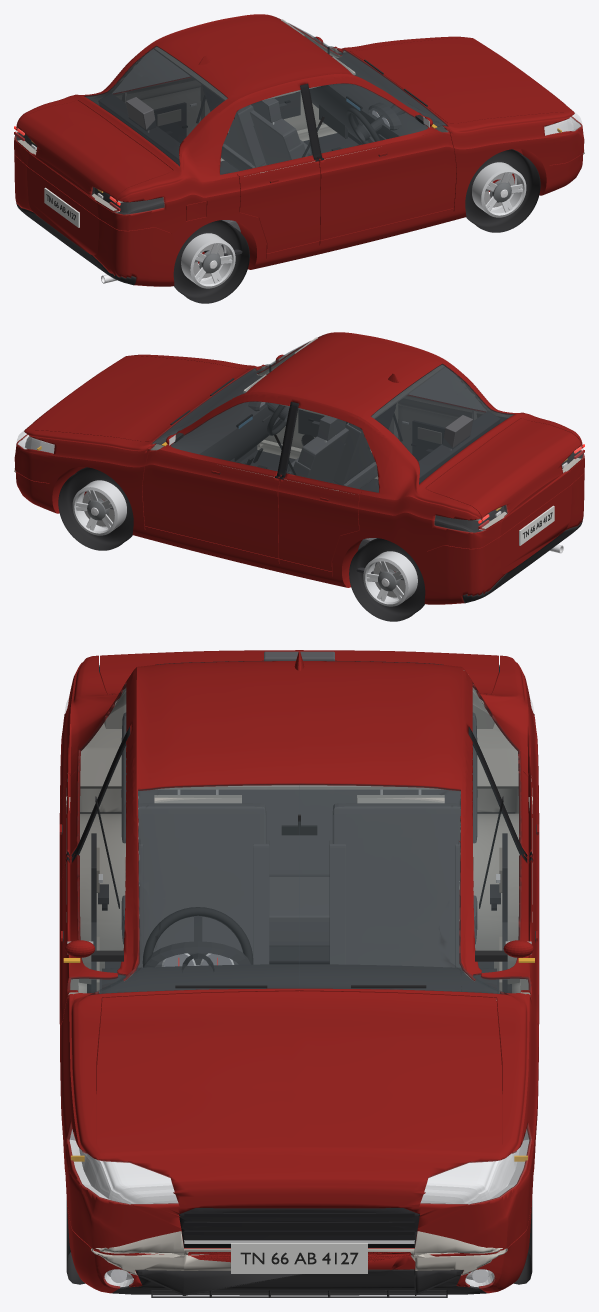
Rendered from car_sedan.glb.
3 renders of one model, top to bottom at view 1: azimuth 30°, elevation 25°; view 2: azimuth 150°, elevation 25°; view 3: azimuth 270°, elevation 25°, orthographic. The views are drawn at different scales.
Visible parts, largest first — view 1: Body, Glass_Glass, Glass_GlassTint, Dash, WRR_Tyre, WFR_Tyre, SeatDriverBack, WFR_Barrel, WRR_Barrel, SeatRearBack, SeatPassengerBack, Trim_BlackTrim (+17 smaller); view 2: Body, Glass_Glass, Glass_GlassTint, Dash, WRL_Tyre, WFL_Tyre, SeatPassengerBack, WFL_Barrel, WRL_Barrel, SeatRearBack, SeatDriverBack, Trim_BlackTrim (+15 smaller); view 3: Body, Glass_Glass, SeatPassengerBack, SeatDriverBack, Dash, SeatRearBack, Trim_BlackTrim, Trim_BlackGloss, SeatRearCushion, PlateFront, HeadLens_L, HeadLens_R (+13 smaller).
Part boxes in pixels (x1=…): Body: x1=14, y1=14, x2=584, y2=286; Glass_Glass: x1=220, y1=17, x2=449, y2=174; Glass_GlassTint: x1=84, y1=46, x2=227, y2=166; Dash: x1=309, y1=52, x2=445, y2=142; WRR_Tyre: x1=173, y1=220, x2=249, y2=303; WFR_Tyre: x1=465, y1=149, x2=540, y2=232; SeatDriverBack: x1=250, y1=110, x2=300, y2=164; WFR_Barrel: x1=472, y1=162, x2=526, y2=217; WRR_Barrel: x1=181, y1=233, x2=235, y2=288; SeatRearBack: x1=98, y1=93, x2=179, y2=165; SeatPassengerBack: x1=203, y1=86, x2=253, y2=164; Trim_BlackTrim: x1=16, y1=201, x2=136, y2=285; Body: x1=14, y1=332, x2=584, y2=604; Glass_Glass: x1=149, y1=335, x2=378, y2=492; Glass_GlassTint: x1=371, y1=363, x2=514, y2=484; Dash: x1=153, y1=370, x2=281, y2=461; WRL_Tyre: x1=349, y1=538, x2=425, y2=621; WFL_Tyre: x1=58, y1=467, x2=133, y2=550; SeatPassengerBack: x1=298, y1=428, x2=348, y2=482; WFL_Barrel: x1=72, y1=480, x2=126, y2=535; WRL_Barrel: x1=363, y1=551, x2=417, y2=606; SeatRearBack: x1=419, y1=411, x2=500, y2=483; SeatDriverBack: x1=345, y1=404, x2=395, y2=482; Trim_BlackTrim: x1=462, y1=519, x2=582, y2=603; Body: x1=59, y1=650, x2=539, y2=1293; Glass_Glass: x1=68, y1=683, x2=530, y2=994; SeatPassengerBack: x1=332, y1=803, x2=460, y2=967; SeatDriverBack: x1=138, y1=803, x2=266, y2=964; Dash: x1=102, y1=964, x2=496, y2=999; SeatRearBack: x1=121, y1=712, x2=477, y2=876; Trim_BlackTrim: x1=87, y1=984, x2=511, y2=1295; Trim_BlackGloss: x1=66, y1=726, x2=532, y2=1247; SeatRearCushion: x1=121, y1=876, x2=477, y2=946; PlateFront: x1=231, y1=1243, x2=367, y2=1273; HeadLens_L: x1=421, y1=1126, x2=531, y2=1204; HeadLens_R: x1=67, y1=1126, x2=177, y2=1204.
Bounding box in the file's own units: 4.03 × 1.56 × 1.75.
